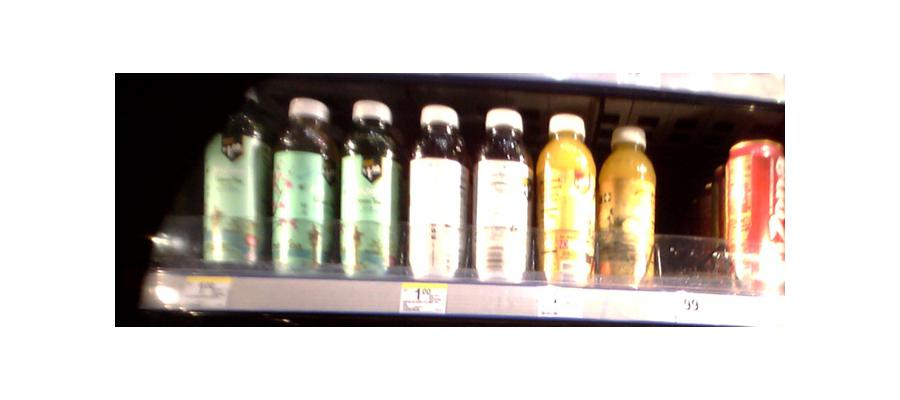bottle: (199, 87, 269, 270), (405, 103, 469, 282), (269, 98, 333, 273), (471, 108, 533, 287), (338, 100, 402, 273), (537, 114, 596, 288), (599, 125, 656, 285), (725, 139, 785, 291)
